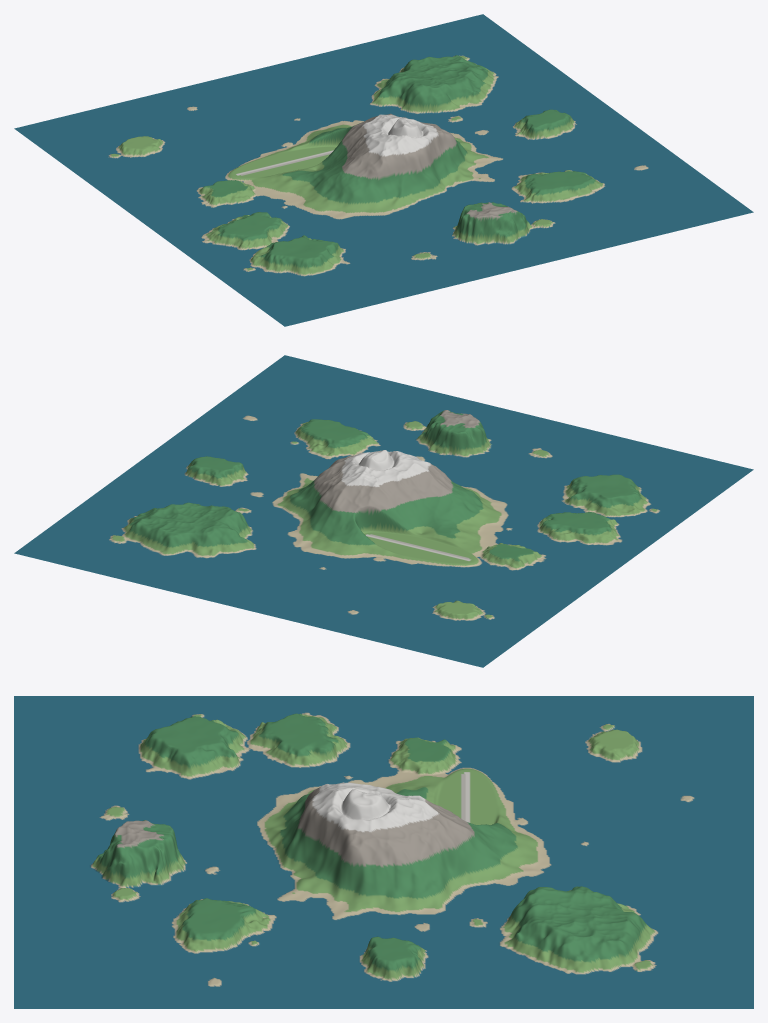
Rendered from pacific_islands_map.glb.
3 renders of one model, top to bottom at view 1: azimuth 30°, elevation 25°; view 2: azimuth 150°, elevation 25°; view 3: azimuth 270°, elevation 25°, orthographic. The views are drawn at different scales.
Parts seen in each view (by area): view 1: PacificIslands; view 2: PacificIslands; view 3: PacificIslands.
Boxes of the visible parts, box(x1,y1,x2,y2) form: PacificIslands: box(14, 14, 753, 326); PacificIslands: box(14, 355, 753, 667); PacificIslands: box(14, 696, 753, 1008).
Bounding box in the file's own units: 16000 × 1663 × 16000.
